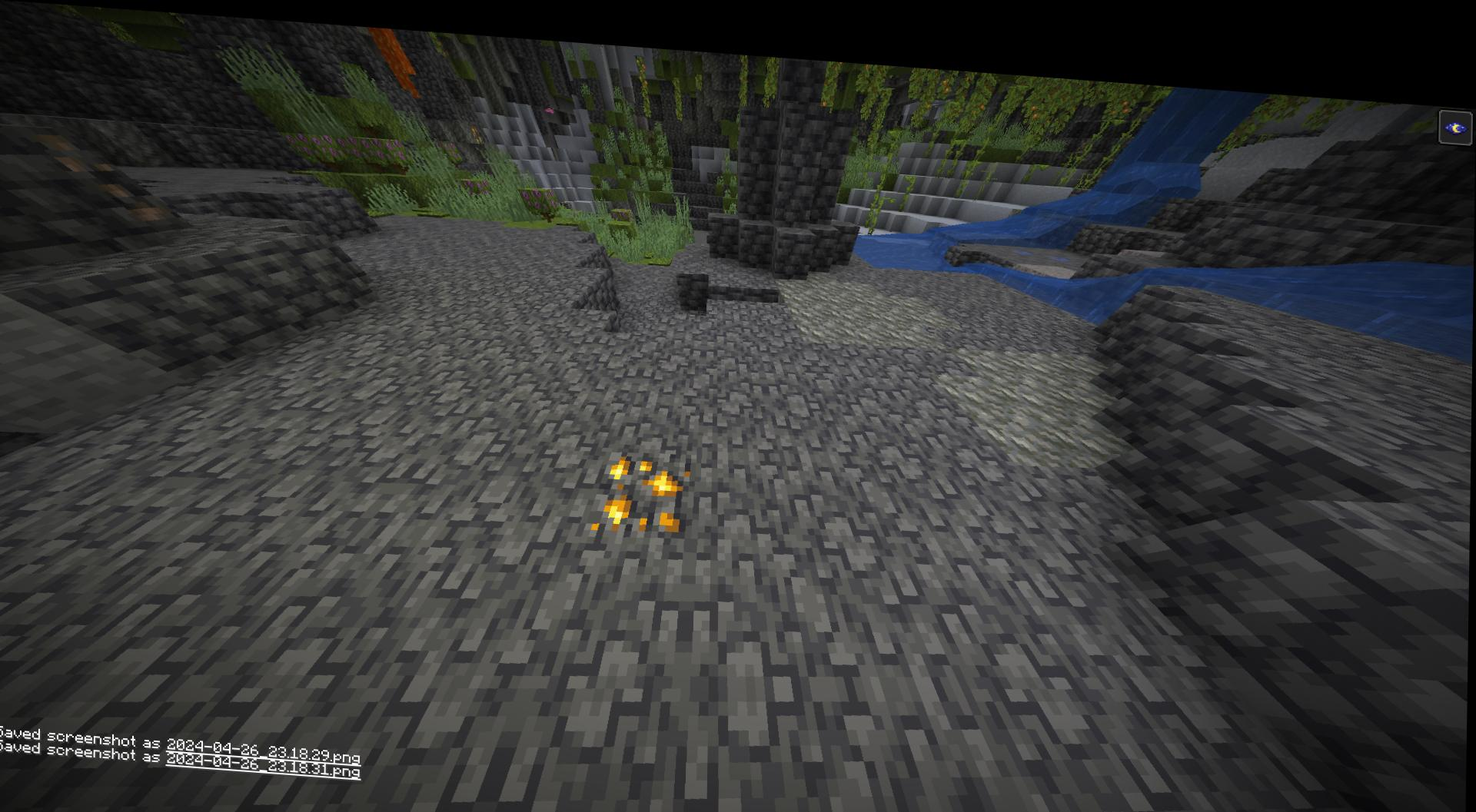gold ore: (590, 440, 693, 530)
